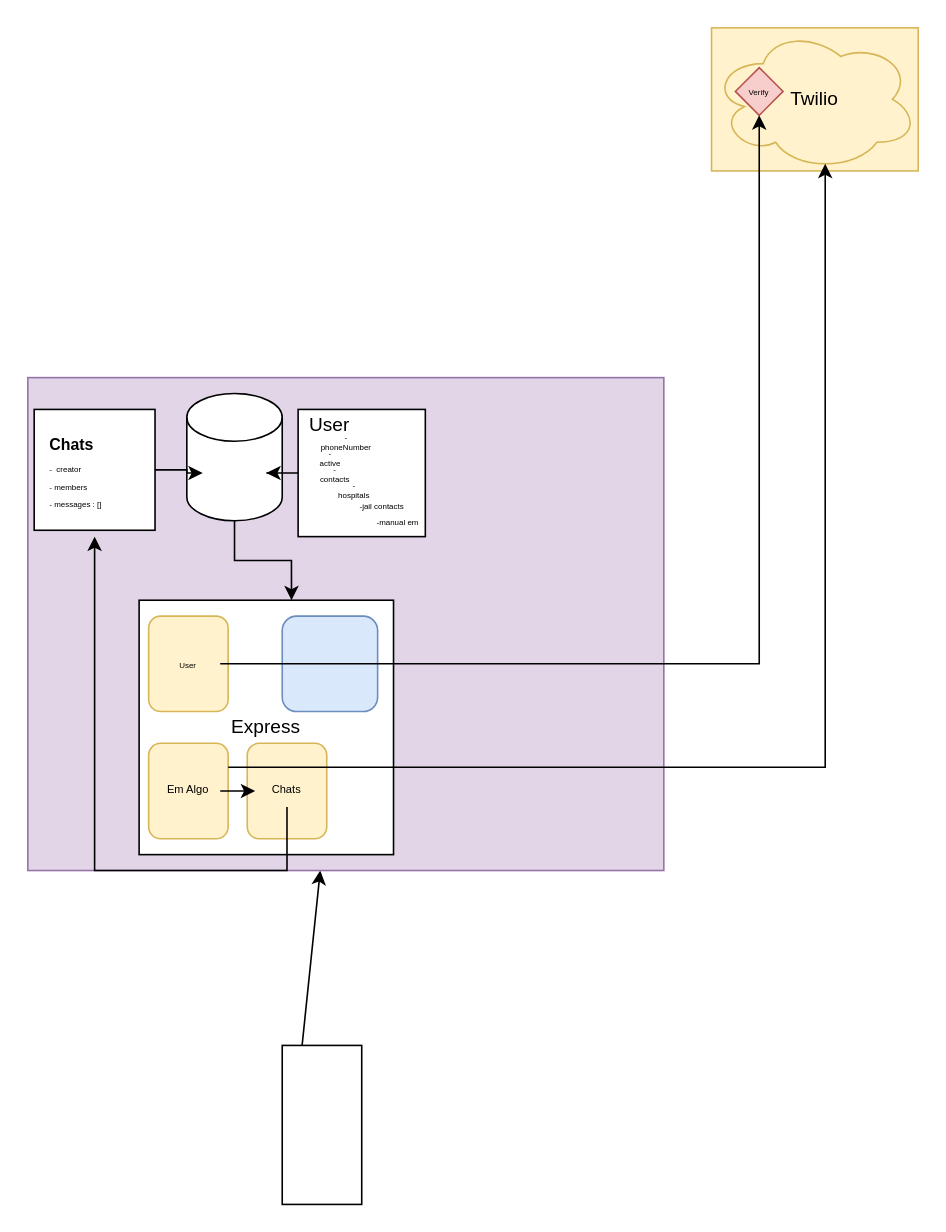
This 946x1232 diagram has some shape labels left out. Each missing label, with the box of its shape:
Mongo: (185, 392, 282, 521)
Socket.io: (281, 615, 378, 712)
